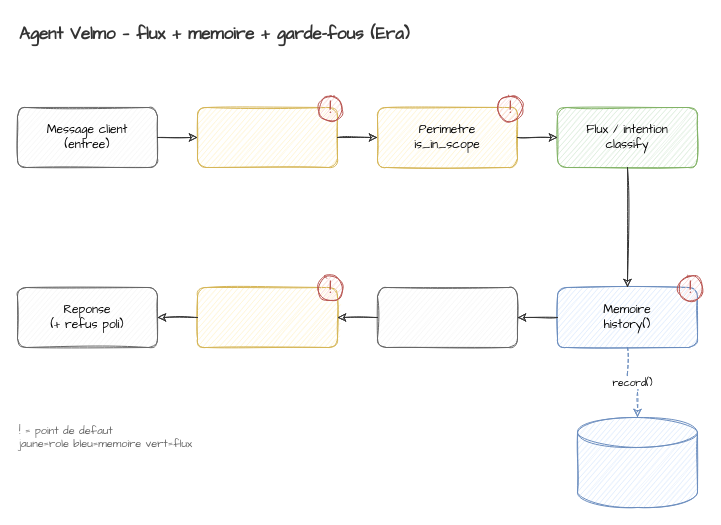
The diagram is 721 pixels wide and 525 high, and some of its shapes have lost their labels. Here are the shapes that lost their labels. From the top down, the box of each, then its label:
(196, 106, 338, 168): Garde-fou ENTREE validate_input
(196, 286, 338, 348): Garde-fou SORTIE AgentReply
(376, 286, 518, 348): Modele Azure Kimi-K2.6
(576, 416, 698, 508): ConversationMemory (fenetre glissante)
